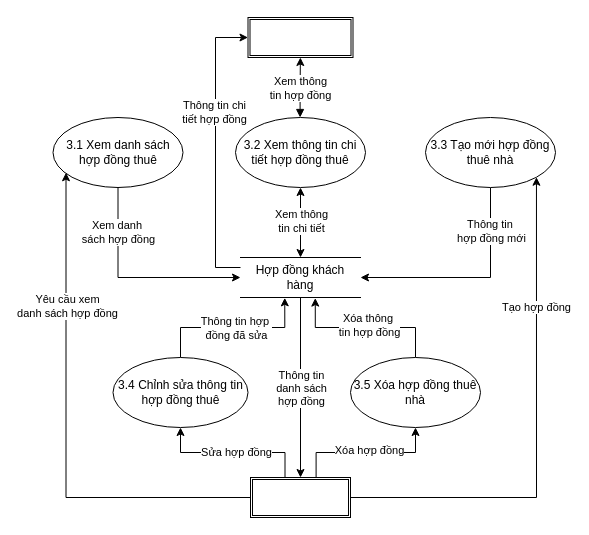
This 589x535 diagram has some shape labels left out. Here are the shapes that lost their labels. From the top down, the centre of each, then its label:
At pixel 300 37: "Khách hàng".
At pixel 300 497: "Quản lý".
